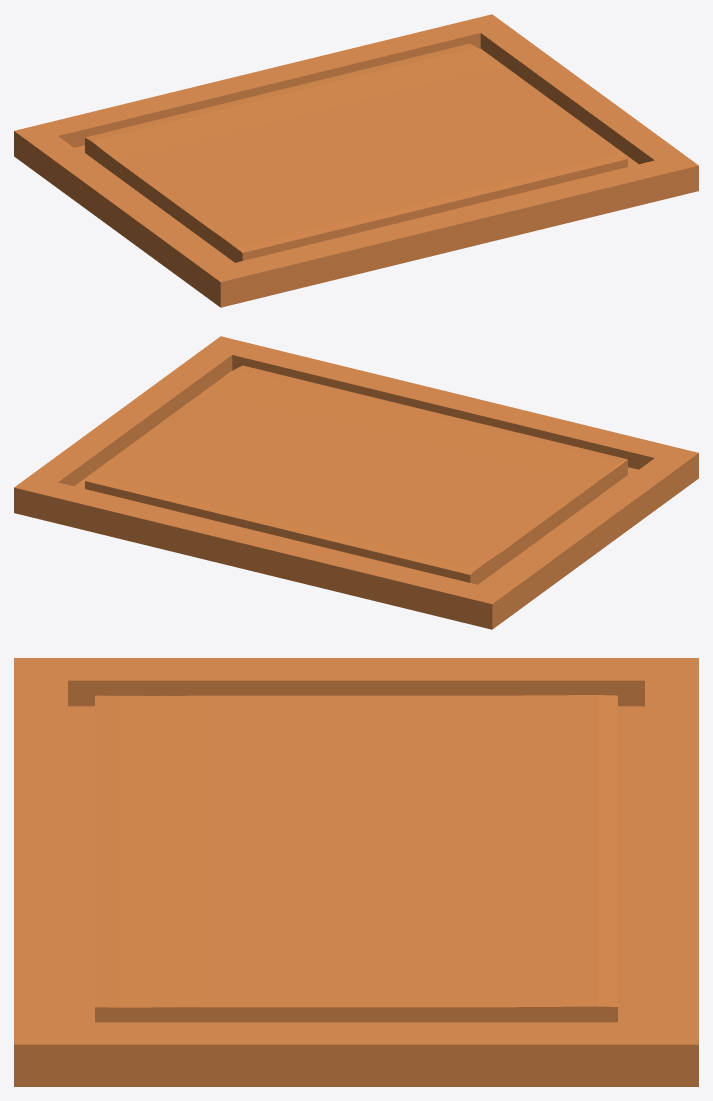
The model's file is board.gltf.
3 views of the same model, one above another, from view 1: azimuth 30°, elevation 25°; view 2: azimuth 150°, elevation 25°; view 3: azimuth 270°, elevation 25° (orthographic). The views are drawn at different scales.
Parts seen in each view (by area): view 1: Cube; view 2: Cube; view 3: Cube.
Part boxes in pixels (box(x1,y1,x2,y2)): Cube: box(14, 14, 698, 307); Cube: box(14, 336, 698, 629); Cube: box(14, 658, 698, 1086).
Bounding box in the file's own units: 2.75 × 0.164 × 2.06.
1 material, 1 textured.
